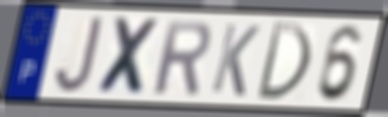6: (315, 22, 366, 105)
D: (253, 19, 314, 104)
J: (52, 14, 106, 96)
K: (208, 21, 263, 100)
R: (151, 17, 213, 97)
X: (94, 14, 164, 99)
